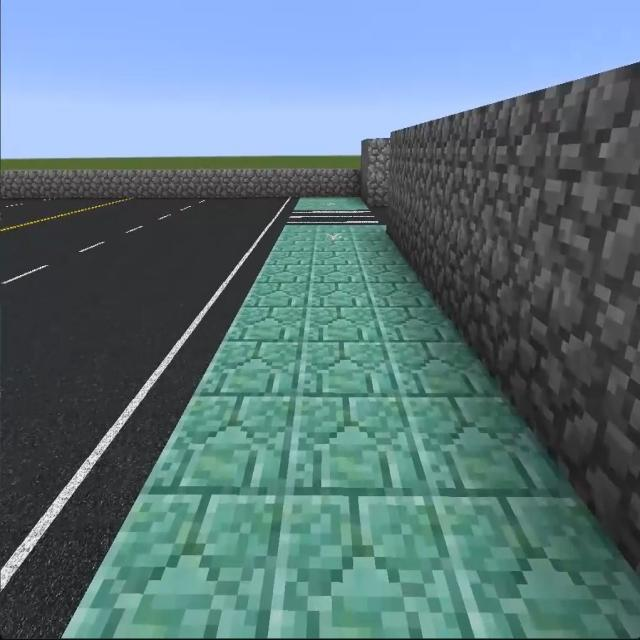crosswalk: (291, 212, 379, 222)
road: (4, 196, 296, 630), (368, 205, 388, 223)
sidewalk: (64, 224, 639, 639), (294, 196, 368, 212)
